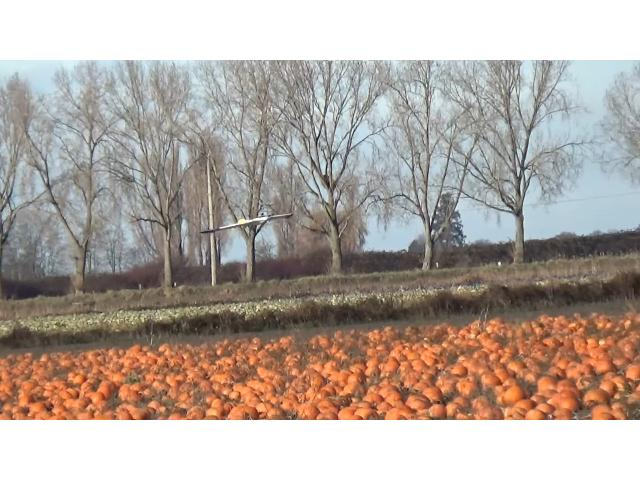Anti-Drone: (201, 214, 291, 235)
